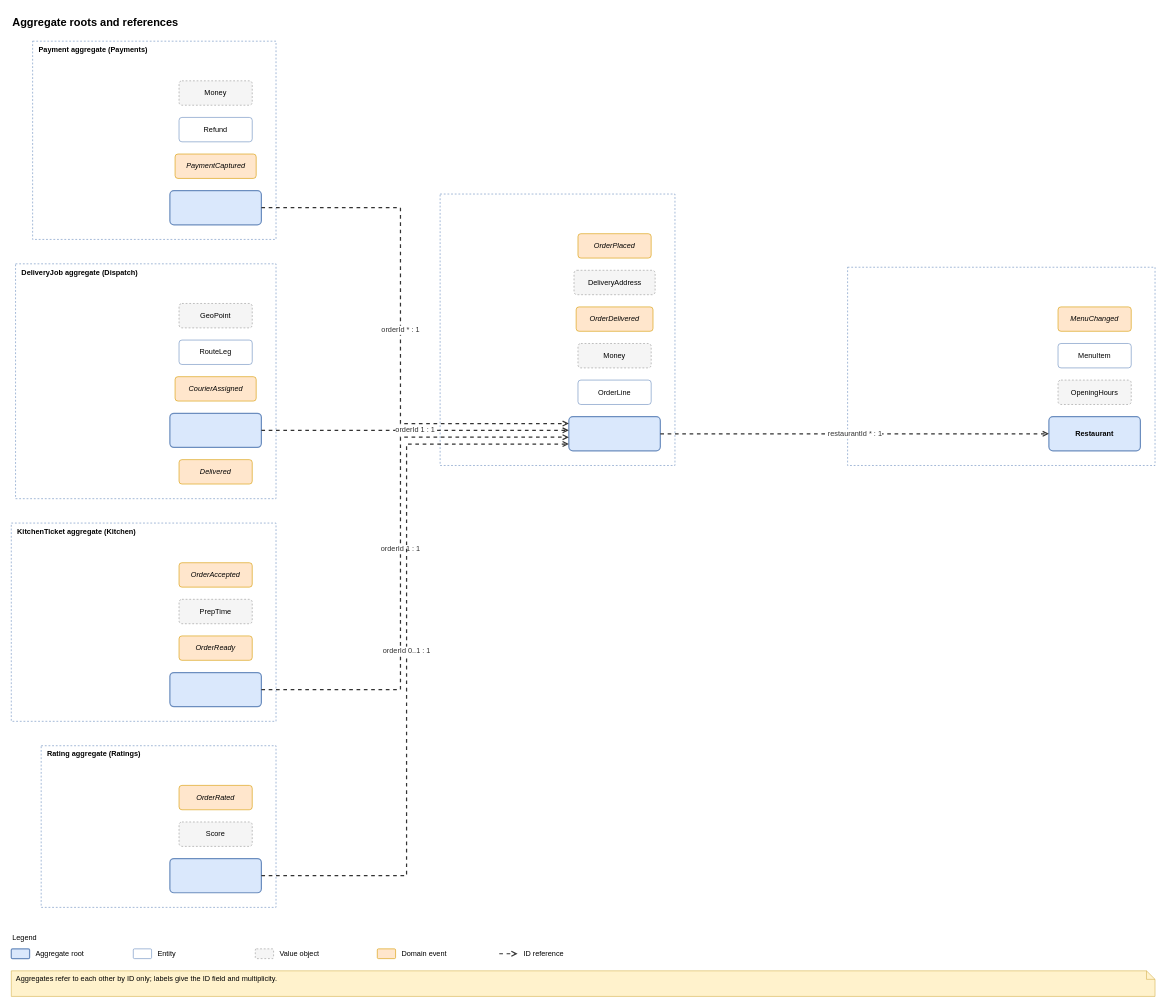
The diagram is 1166 pixels wide and 1007 high, and some of its shapes have lost their labels. Here are the shapes that lost their labels. From the top down, the box of each, then its label:
(169, 190, 262, 225): Payment
(440, 193, 675, 465): Order aggregate (Ordering)
(847, 267, 1155, 465): Restaurant aggregate (Restaurant catalogue)
(169, 412, 262, 448): DeliveryJob
(568, 416, 661, 451): Order
(169, 672, 262, 707): KitchenTicket
(169, 858, 262, 893): Rating
